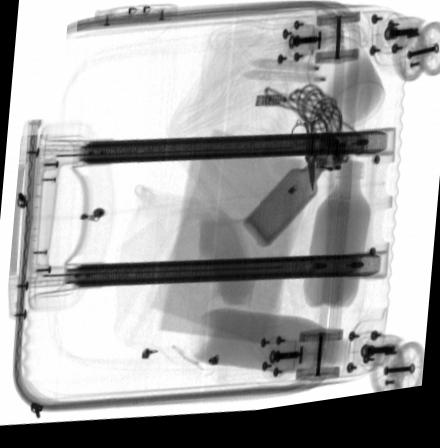Scissors: (288, 125, 330, 202)
